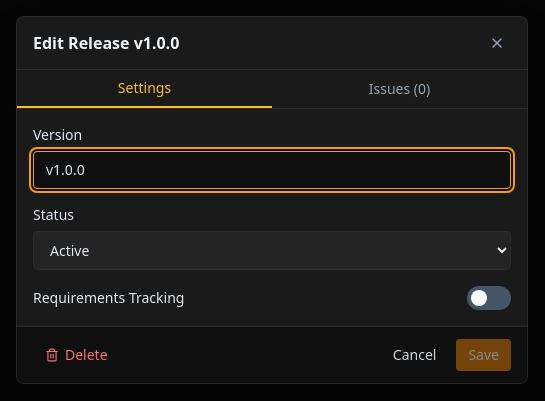
EditReleaseDialog › issue filtering › should only show open issues in the Add Issues section
Switch to Issues tab
What coordinates should you click on to do the following:
click the button "Issues (0)"
I would click on:
 (400, 89)
Its box is top-left (272, 70), bottom-right (527, 108).
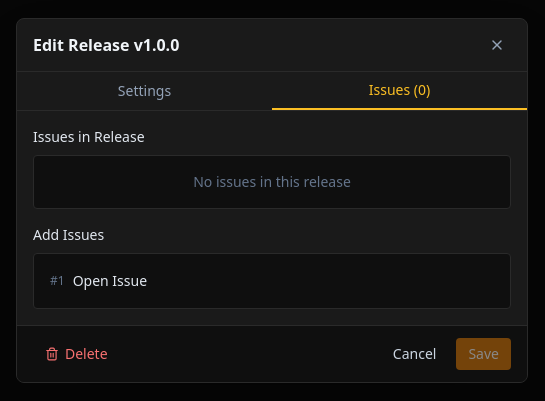
Now the text "Open Issue" is shown, box top-left (73, 270), bottom-right (147, 290)
